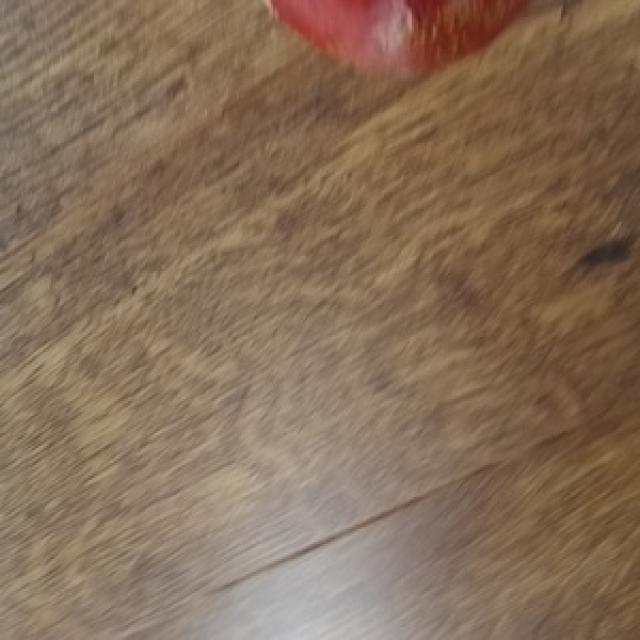ball: (260, 0, 576, 81)
